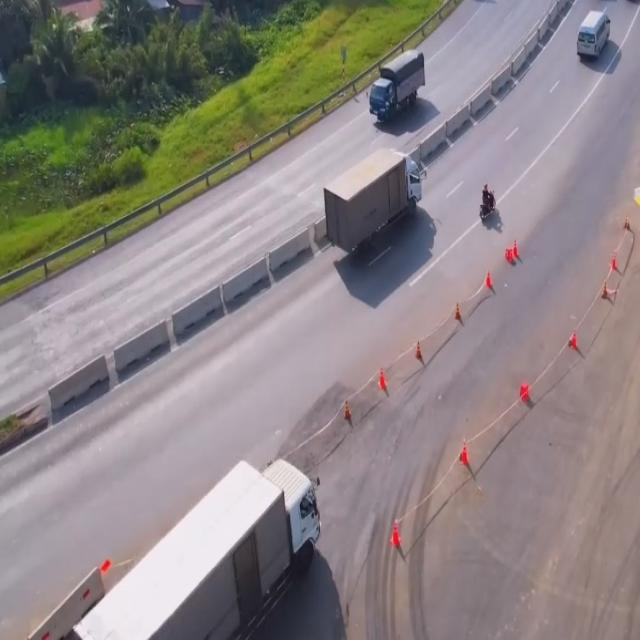car: (575, 9, 612, 66)
motorbike: (479, 182, 495, 220)
truck: (74, 455, 323, 638), (323, 146, 423, 258), (368, 46, 424, 121)
